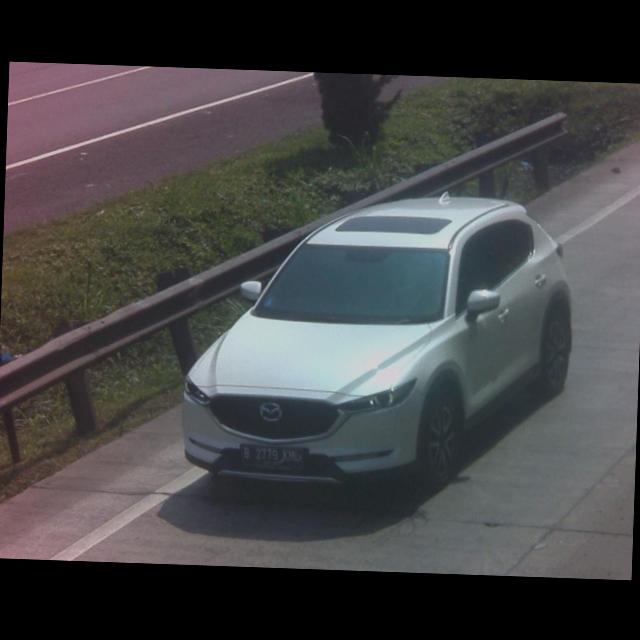plate: (236, 441, 308, 468)
